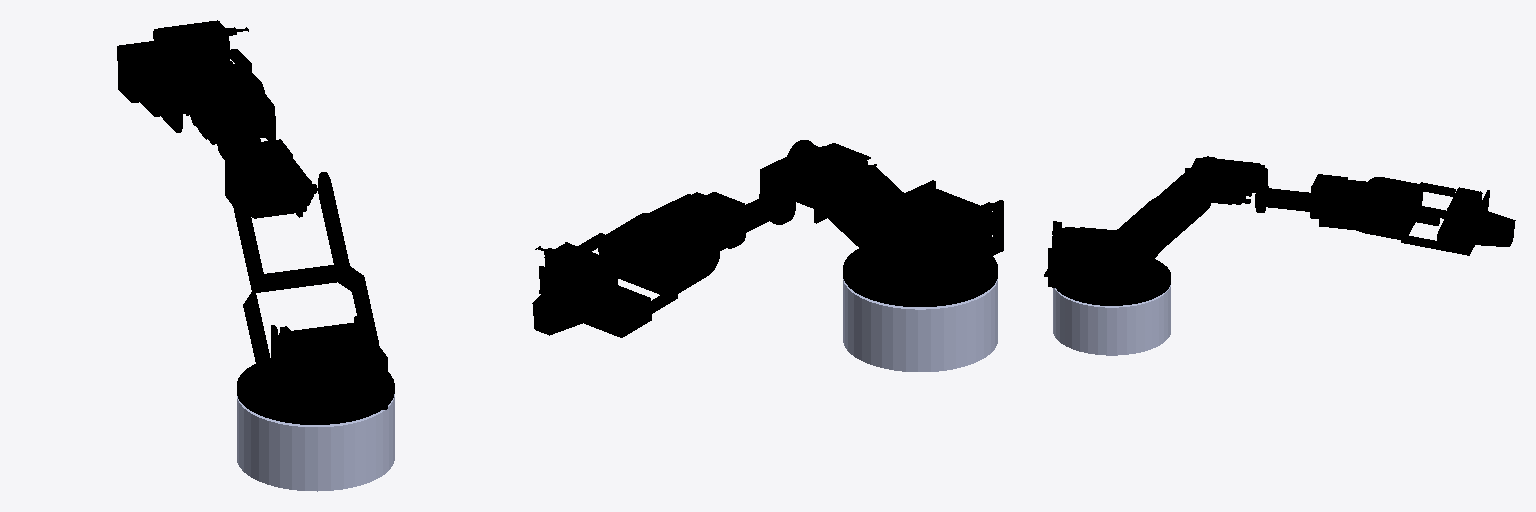
The robot description file, URDF, robot "original2.SLDASM":
<?xml version="1.0" encoding="utf-8"?>
<!-- This URDF was automatically created by SolidWorks to URDF Exporter! Originally created by [author] ([email redacted]) 
     Commit Version: 1.6.0-4-g7f85cfe  Build Version: 1.6.7995.38578
     For more information, please see http://wiki.ros.org/sw_urdf_exporter -->
<robot
  name="original2.SLDASM">
  <link
    name="base_link">
    <inertial>
      <origin
        xyz="1.17961196366423E-16 -1.05707577000014E-06 0.0205891475909317"
        rpy="0 0 0" />
      <mass
        value="0.279108483062327" />
      <inertia
        ixx="0.00018659798606013"
        ixy="2.047173222763E-24"
        ixz="-1.44699483622429E-24"
        iyy="0.000186588840168755"
        iyz="6.46455192197749E-09"
        izz="0.000294180101315495" />
    </inertial>
    <visual>
      <origin
        xyz="0 0 0"
        rpy="0 0 0" />
      <geometry>
        <mesh
          filename="package://original2.SLDASM/meshes/base_link.STL" />
      </geometry>
      <material
        name="">
        <color
          rgba="0.792156862745098 0.819607843137255 0.933333333333333 1" />
      </material>
    </visual>
    <collision>
      <origin
        xyz="0 0 0"
        rpy="0 0 0" />
      <geometry>
        <mesh
          filename="package://original2.SLDASM/meshes/base_link.STL" />
      </geometry>
    </collision>
  </link>
  <link
    name="Link_1">
    <inertial>
      <origin
        xyz="0.0011301453894309 -0.0108089514683544 0.0155011232648956"
        rpy="0 0 0" />
      <mass
        value="0.12110612091585" />
      <inertia
        ixx="5.01369095387495E-05"
        ixy="-1.58843326242538E-06"
        ixz="-8.4790074295746E-07"
        iyy="4.19814249499509E-05"
        iyz="1.40096683477754E-07"
        izz="7.88075613415828E-05" />
    </inertial>
    <visual>
      <origin
        xyz="0 0 0"
        rpy="0 0 0" />
      <geometry>
        <mesh
          filename="package://original2.SLDASM/meshes/Link_1.STL" />
      </geometry>
      <material
        name="">
        <color
          rgba="0 0 0 1" />
      </material>
    </visual>
    <collision>
      <origin
        xyz="0 0 0"
        rpy="0 0 0" />
      <geometry>
        <mesh
          filename="package://original2.SLDASM/meshes/Link_1.STL" />
      </geometry>
    </collision>
  </link>
  <joint
    name="Joint_1"
    type="revolute">
    <origin
      xyz="0 0 0.0425"
      rpy="0 0 0" />
    <parent
      link="base_link" />
    <child
      link="Link_1" />
    <axis
      xyz="0 0 -1" />
    <limit
      lower="0"
      upper="2.79"
      effort="10"
      velocity="10" />
  </joint>
  <link
    name="Link_2">
    <inertial>
      <origin
        xyz="-0.0269165134077401 0.041046421940095 0.0357249223955822"
        rpy="0 0 0" />
      <mass
        value="0.0163482077673297" />
      <inertia
        ixx="1.53958213215753E-05"
        ixy="8.86164283603922E-07"
        ixz="-1.49032792053561E-06"
        iyy="1.92152670560658E-05"
        iyz="-6.61736364220972E-06"
        izz="1.8828464908199E-05" />
    </inertial>
    <visual>
      <origin
        xyz="0 0 0"
        rpy="0 0 0" />
      <geometry>
        <mesh
          filename="package://original2.SLDASM/meshes/Link_2.STL" />
      </geometry>
      <material
        name="">
        <color
          rgba="0 0 0 1" />
      </material>
    </visual>
    <collision>
      <origin
        xyz="0 0 0"
        rpy="0 0 0" />
      <geometry>
        <mesh
          filename="package://original2.SLDASM/meshes/Link_2.STL" />
      </geometry>
    </collision>
  </link>
  <joint
    name="Joint_2"
    type="revolute">
    <origin
      xyz="0.038579 -0.0025906 0.020463"
      rpy="0 0 0" />
    <parent
      link="Link_1" />
    <child
      link="Link_2" />
    <axis
      xyz="0.97602 -0.21768 0" />
    <limit
      lower="0"
      upper="2.79"
      effort="10"
      velocity="10" />
  </joint>
  <link
    name="Link_3">
    <inertial>
      <origin
        xyz="0.0364755164569626 0.0607157065085727 0.000570570485861163"
        rpy="0 0 0" />
      <mass
        value="0.0828796044003642" />
      <inertia
        ixx="1.66174699614031E-05"
        ixy="-2.3978888641102E-06"
        ixz="5.74066624235356E-08"
        iyy="1.31495294683294E-05"
        iyz="1.57313952256248E-07"
        izz="2.32414509282137E-05" />
    </inertial>
    <visual>
      <origin
        xyz="0 0 0"
        rpy="0 0 0" />
      <geometry>
        <mesh
          filename="package://original2.SLDASM/meshes/Link_3.STL" />
      </geometry>
      <material
        name="">
        <color
          rgba="0 0 0 1" />
      </material>
    </visual>
    <collision>
      <origin
        xyz="0 0 0"
        rpy="0 0 0" />
      <geometry>
        <mesh
          filename="package://original2.SLDASM/meshes/Link_3.STL" />
      </geometry>
    </collision>
  </link>
  <joint
    name="Joint_3"
    type="revolute">
    <origin
      xyz="-0.039793 0.079162 0.070736"
      rpy="0 0 0" />
    <parent
      link="Link_2" />
    <child
      link="Link_3" />
    <axis
      xyz="0.97602 -0.21768 0" />
    <limit
      lower="0"
      upper="2.79"
      effort="10"
      velocity="10" />
  </joint>
  <link
    name="Link_4">
    <inertial>
      <origin
        xyz="-0.00166727470007885 0.0712456653986148 -0.00637066615798729"
        rpy="0 0 0" />
      <mass
        value="0.0613725520964692" />
      <inertia
        ixx="8.51560061982322E-06"
        ixy="2.15575456376295E-06"
        ixz="-1.77960307653963E-07"
        iyy="1.74268559491E-05"
        iyz="-1.32465263755769E-07"
        izz="1.63107426398874E-05" />
    </inertial>
    <visual>
      <origin
        xyz="0 0 0"
        rpy="0 0 0" />
      <geometry>
        <mesh
          filename="package://original2.SLDASM/meshes/Link_4.STL" />
      </geometry>
      <material
        name="">
        <color
          rgba="0 0 0 1" />
      </material>
    </visual>
    <collision>
      <origin
        xyz="0 0 0"
        rpy="0 0 0" />
      <geometry>
        <mesh
          filename="package://original2.SLDASM/meshes/Link_4.STL" />
      </geometry>
    </collision>
  </link>
  <joint
    name="Joint_4"
    type="revolute">
    <origin
      xyz="0.073201 0.12149 -0.0020395"
      rpy="0 0 0" />
    <parent
      link="Link_3" />
    <child
      link="Link_4" />
    <axis
      xyz="-0.97602 0.21768 0" />
    <limit
      lower="0"
      upper="2.79"
      effort="10"
      velocity="10" />
  </joint>
</robot>

--- Render facts (derived) ---
Views: 3 orthographic renders of the robot side by side, from view 1: azimuth 30°, elevation 25°; view 2: azimuth 150°, elevation 25°; view 3: azimuth 270°, elevation 25°.
Robot: original2.SLDASM — 5 links, 4 joints (4 revolute); root link base_link; default pose: all joints at 0.
Links seen in each view (by area): view 1: Link_1, base_link, Link_3, Link_4, Link_2; view 2: Link_4, Link_3, Link_1, base_link, Link_2; view 3: Link_4, Link_3, Link_1, base_link, Link_2.
Link boxes in pixels (x1,y1,x2,y2): Link_1: (237, 316, 394, 424); base_link: (237, 394, 394, 491); Link_3: (185, 74, 317, 218); Link_4: (117, 20, 264, 132); Link_2: (232, 172, 378, 383); Link_4: (532, 213, 719, 337); Link_3: (634, 143, 876, 258); Link_1: (843, 180, 1003, 306); base_link: (843, 279, 997, 371); Link_2: (787, 140, 965, 280); Link_4: (1350, 177, 1515, 255); Link_3: (1184, 157, 1390, 230); Link_1: (1044, 221, 1170, 305); base_link: (1053, 285, 1170, 355); Link_2: (1093, 156, 1216, 291).
Bounding box of the posed robot: 0.1542 × 0.3654 × 0.1478 m (x, y, z).
Meshes: 5 distinct files referenced, 5 mesh visuals loaded (5 binary STL).